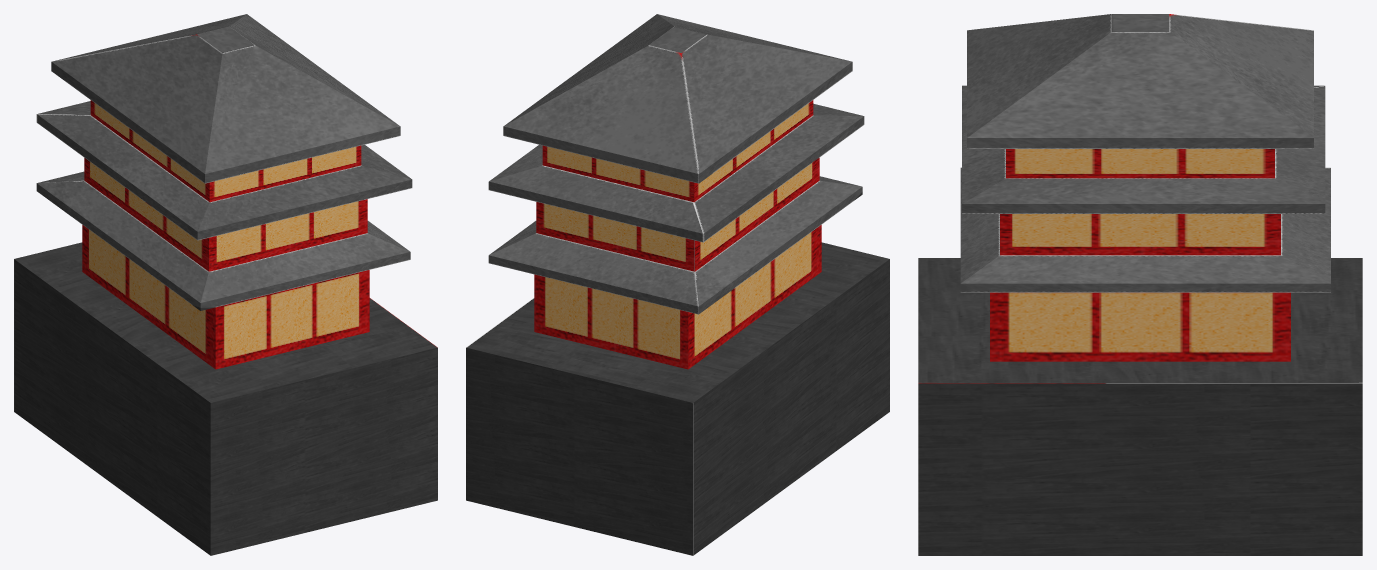
File: bg_tower.fbx
3 renders of one model, left to right at view 1: azimuth 30°, elevation 25°; view 2: azimuth 150°, elevation 25°; view 3: azimuth 270°, elevation 25°, orthographic. The views are drawn at different scales.
Parts seen in each view (by area): view 1: pCube1; view 2: pCube1; view 3: pCube1.
Part boxes in pixels (x1,y1,x2,y2): pCube1: [14, 14, 437, 555]; pCube1: [466, 14, 889, 555]; pCube1: [918, 14, 1362, 555].
Bounding box in the file's own units: 11.94 × 20.91 × 17.91.
Materials: 1 (1 with a texture image).
